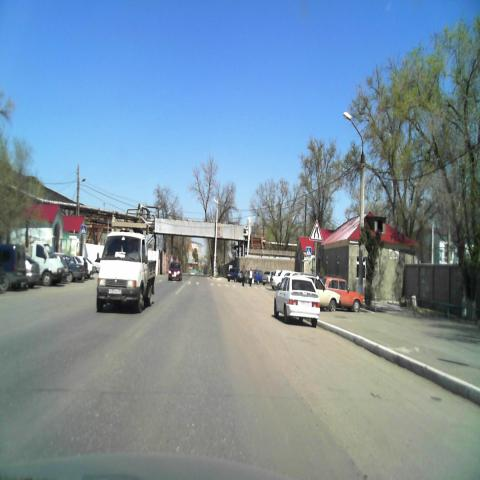1_20: (309, 220, 323, 242)
